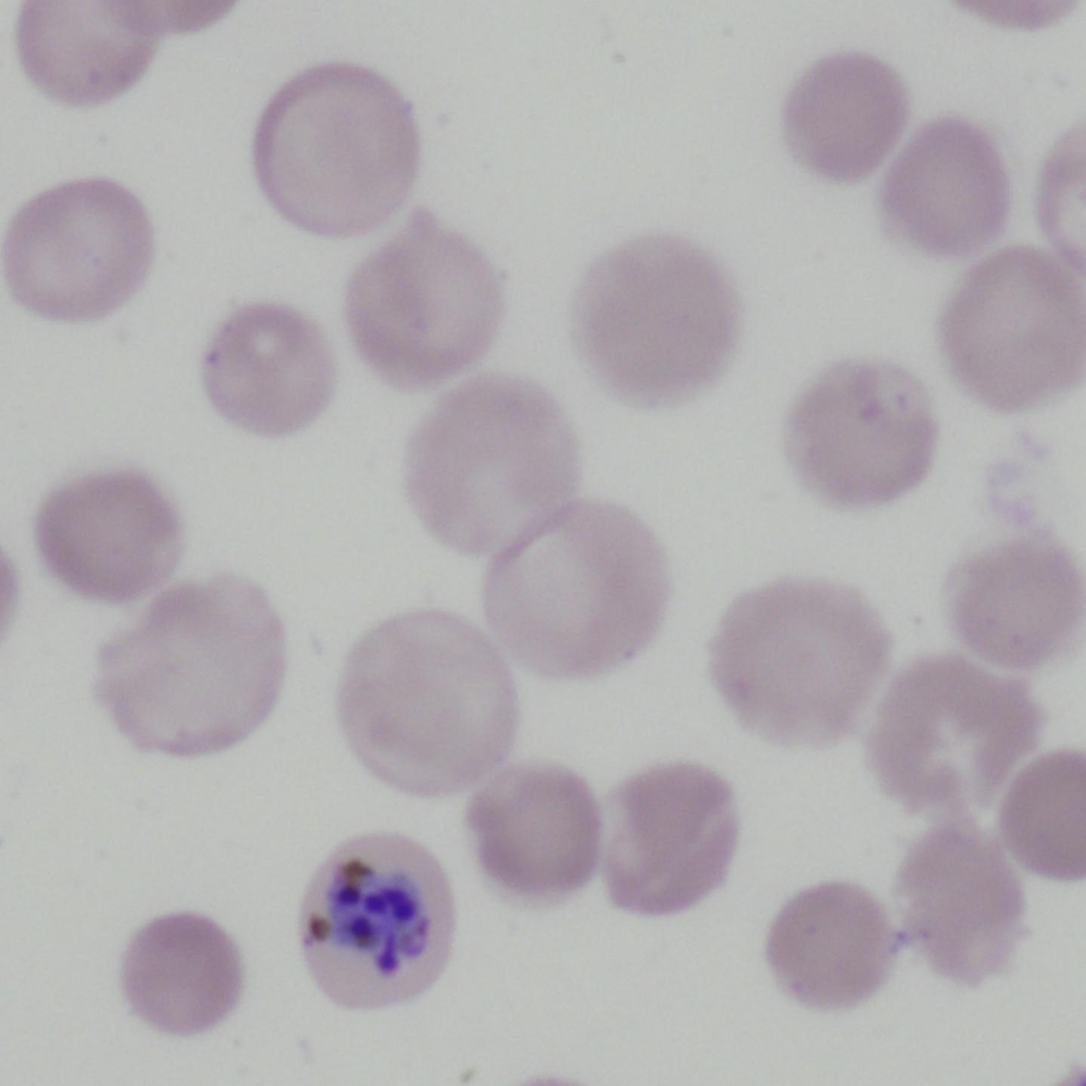Infected: (292, 836, 453, 1004)
Uninfected: (478, 504, 669, 687), (402, 378, 584, 565), (335, 610, 517, 790), (98, 579, 278, 749), (571, 232, 740, 410), (712, 579, 887, 746), (868, 655, 1047, 818), (337, 212, 498, 385), (254, 61, 414, 234), (941, 242, 1075, 419), (787, 353, 936, 504), (901, 821, 1028, 988), (3, 179, 153, 320), (596, 763, 733, 910), (35, 464, 183, 600), (873, 119, 1008, 259), (196, 305, 340, 434), (775, 51, 917, 177), (470, 766, 597, 899), (8, 0, 156, 112), (762, 881, 889, 1009), (121, 906, 247, 1031), (999, 750, 1086, 892)
